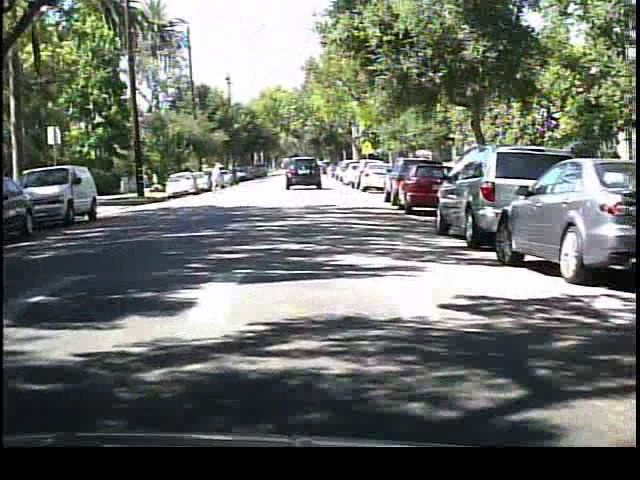person: (207, 156, 227, 196)
